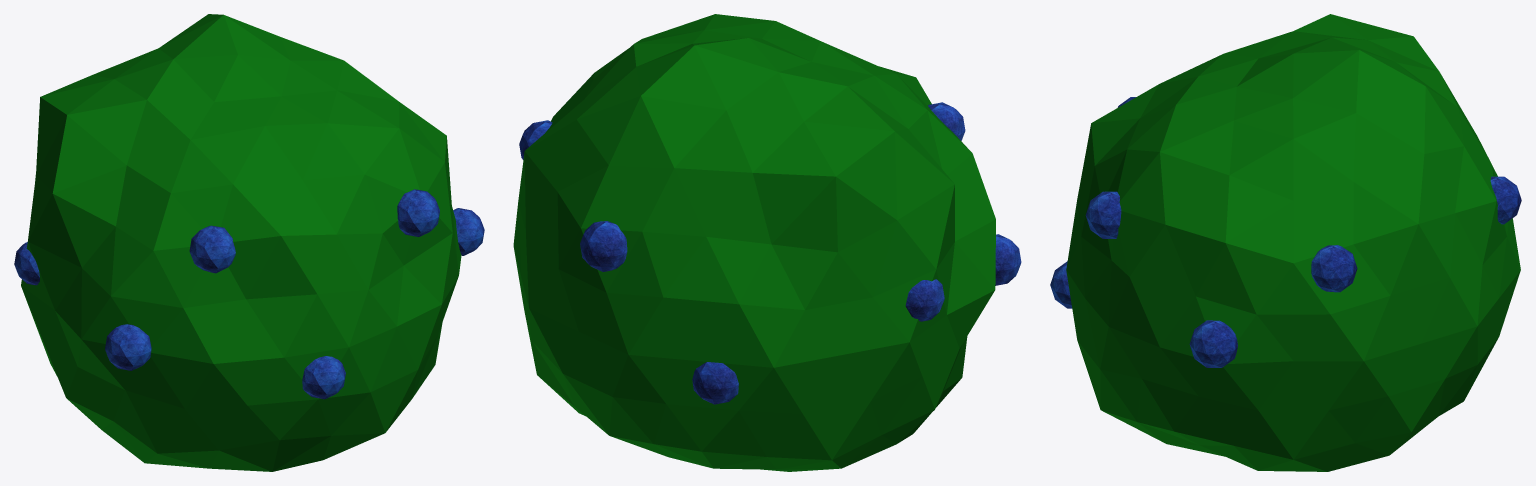
File: bush.obj
3 renders of one model, left to right at view 1: azimuth 30°, elevation 25°; view 2: azimuth 150°, elevation 25°; view 3: azimuth 270°, elevation 25°, orthographic. The views are drawn at different scales.
Parts seen in each view (by area): view 1: Icosphere, Icosphere.002, Icosphere.004, Icosphere.001, Icosphere.003, Icosphere.006, Icosphere.005; view 2: Icosphere, Icosphere.008, Icosphere.009, Icosphere.005, Icosphere.004, Icosphere.002, Icosphere.007; view 3: Icosphere, Icosphere.006, Icosphere.007, Icosphere.001, Icosphere.008, Icosphere.003.
Boxes of the visible parts, x1,y1,x2,y2 form: Icosphere: (21,14,461,471); Icosphere.002: (189,225,235,273); Icosphere.004: (105,324,151,370); Icosphere.001: (397,189,439,236); Icosphere.003: (302,356,345,399); Icosphere.006: (453,208,484,255); Icosphere.005: (14,242,39,285); Icosphere: (513,14,995,471); Icosphere.008: (580,221,627,271); Icosphere.009: (692,362,738,404); Icosphere.005: (905,279,944,321); Icosphere.004: (995,234,1021,285); Icosphere.002: (928,102,965,140); Icosphere.007: (519,120,552,159); Icosphere: (1066,14,1520,471); Icosphere.006: (1189,320,1237,367); Icosphere.007: (1311,245,1357,292); Icosphere.001: (1085,191,1121,238); Icosphere.008: (1490,176,1521,224); Icosphere.003: (1050,261,1072,308).
Size of the model in its own units: 1.73 by 1.62 by 1.71.
2 materials, 1 textured.
